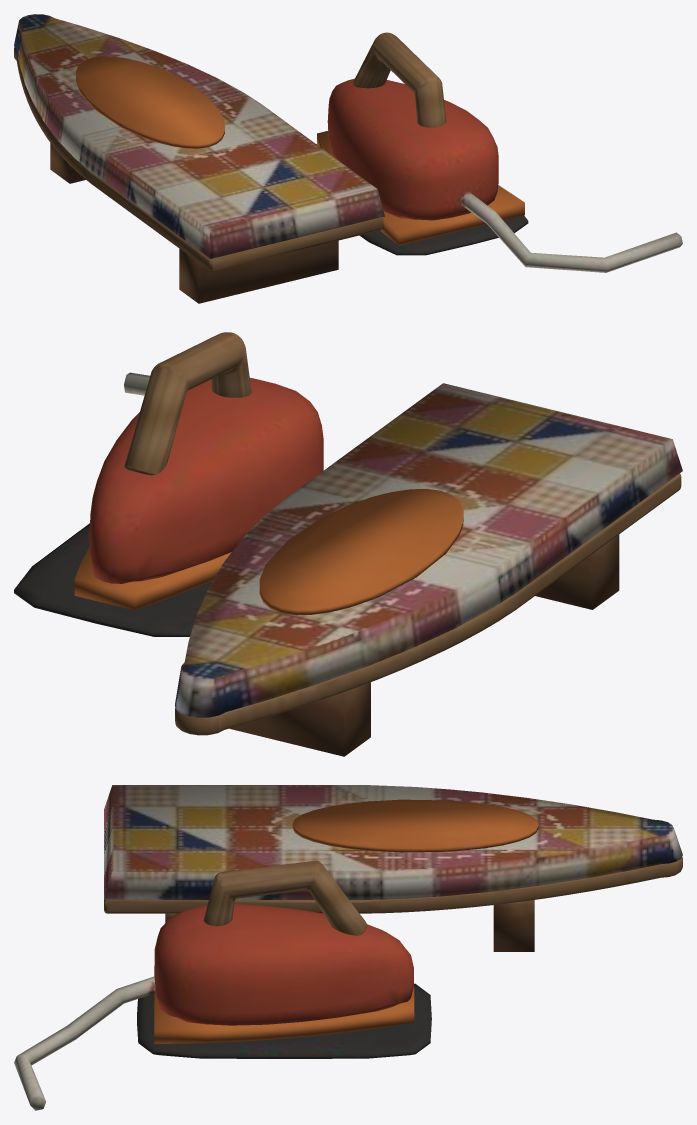
The model's file is press_board.glb.
3 renders of one model, top to bottom at view 1: azimuth 30°, elevation 25°; view 2: azimuth 150°, elevation 25°; view 3: azimuth 270°, elevation 25°, orthographic. The views are drawn at different scales.
Visible parts, largest first — view 1: prop_press_board_felt, prop_press_board_wood, prop_press_board_felt_heat; view 2: prop_press_board_felt, prop_press_board_wood, prop_press_board_felt_heat; view 3: prop_press_board_felt, prop_press_board_felt_heat, prop_press_board_wood.
Boxes of the visible parts, x1=… form: prop_press_board_felt: x1=14, y1=14, x2=682, y2=272; prop_press_board_wood: x1=14, y1=32, x2=446, y2=303; prop_press_board_felt_heat: x1=76, y1=56, x2=524, y2=245; prop_press_board_felt: x1=14, y1=372, x2=682, y2=717; prop_press_board_wood: x1=124, y1=332, x2=681, y2=756; prop_press_board_felt_heat: x1=74, y1=489, x2=463, y2=615; prop_press_board_felt: x1=14, y1=785, x2=682, y2=1110; prop_press_board_felt_heat: x1=154, y1=799, x2=538, y2=1043; prop_press_board_wood: x1=104, y1=857, x2=682, y2=951.
Size of the model in its own units: 0.6516 by 0.2222 by 0.8157.
3 materials, 3 textured.
